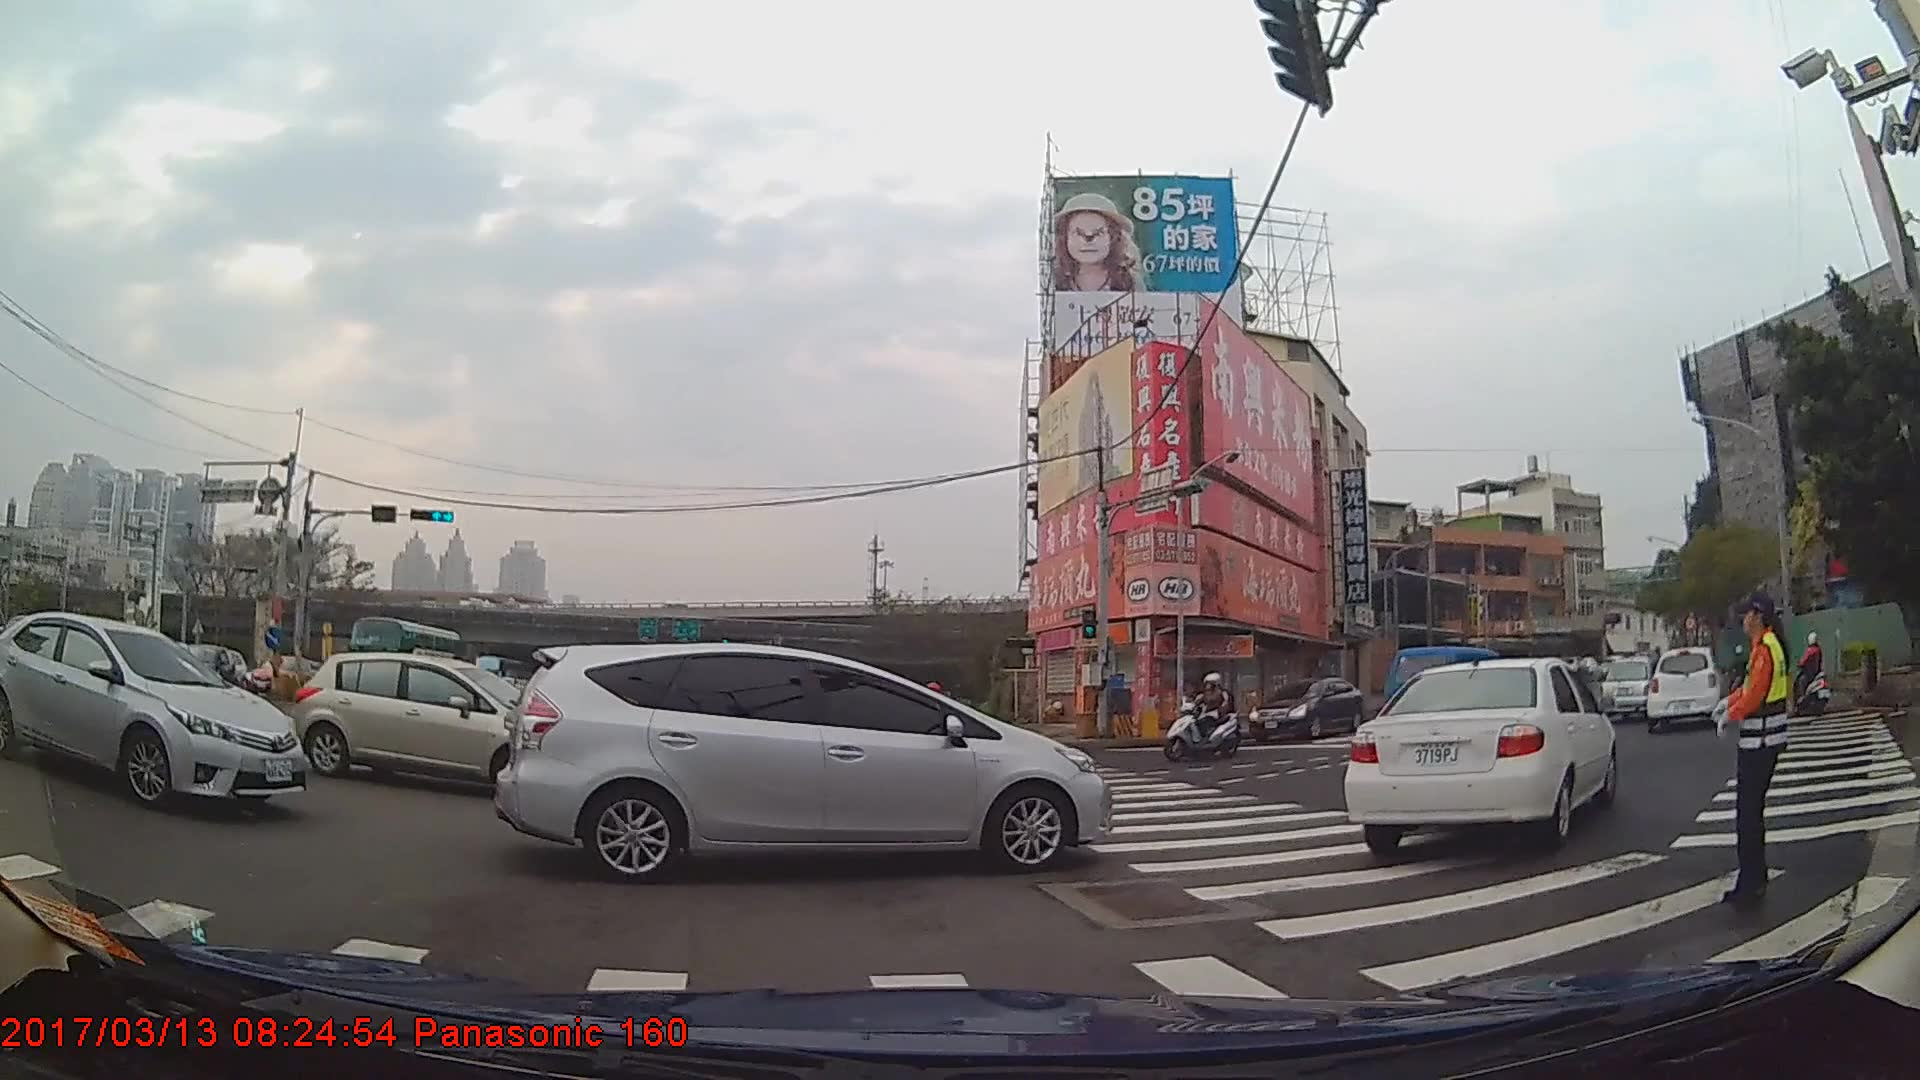pedestrian: (1718, 591, 1796, 907)
rider: (1164, 672, 1245, 762), (1792, 630, 1835, 718), (1723, 644, 1751, 709)
vehicle: (488, 640, 1112, 876), (0, 607, 302, 811), (1340, 655, 1619, 858), (290, 645, 569, 790), (345, 615, 459, 697), (1642, 644, 1723, 734), (1244, 680, 1353, 744), (1597, 652, 1665, 724)
